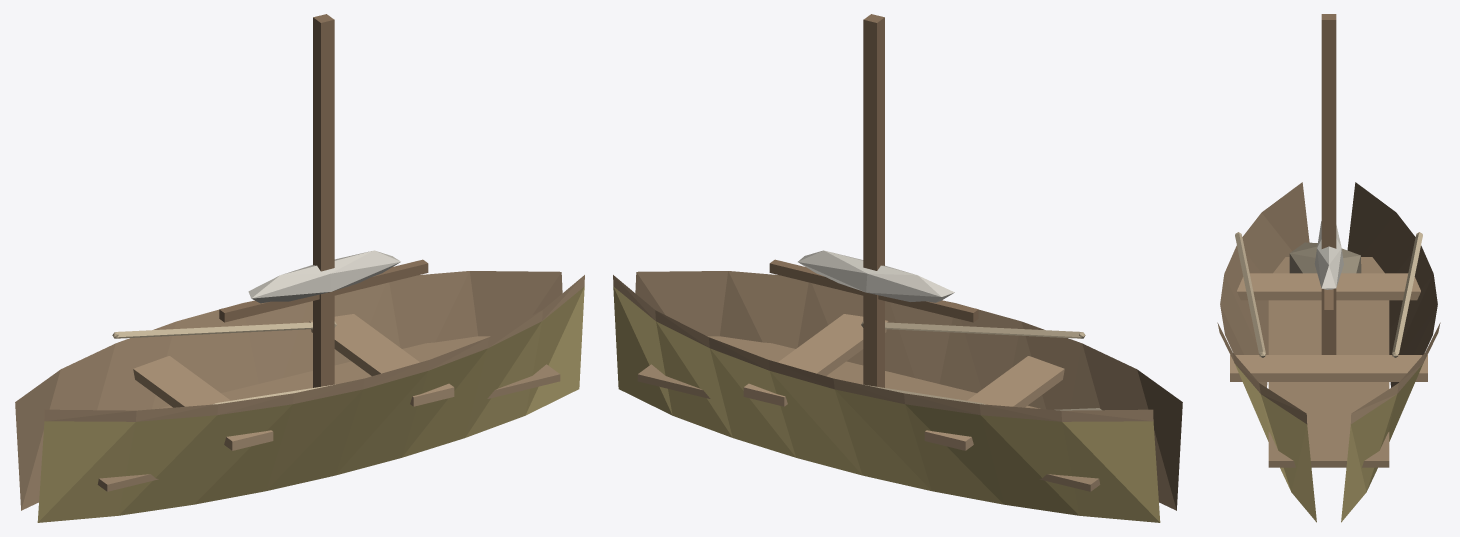
Rendered from boat3.glb.
3 views of the same model, side by side, from view 1: azimuth 30°, elevation 25°; view 2: azimuth 150°, elevation 25°; view 3: azimuth 270°, elevation 25° (orthographic). The views are drawn at different scales.
Visible parts, largest first — view 1: boat3; view 2: boat3; view 3: boat3.
Boxes of the visible parts, x1=… form: boat3: x1=15, y1=14, x2=584, y2=522; boat3: x1=613, y1=14, x2=1182, y2=522; boat3: x1=1217, y1=14, x2=1440, y2=522.
Size of the model in its own units: 4.8 by 3.6 by 1.94.
